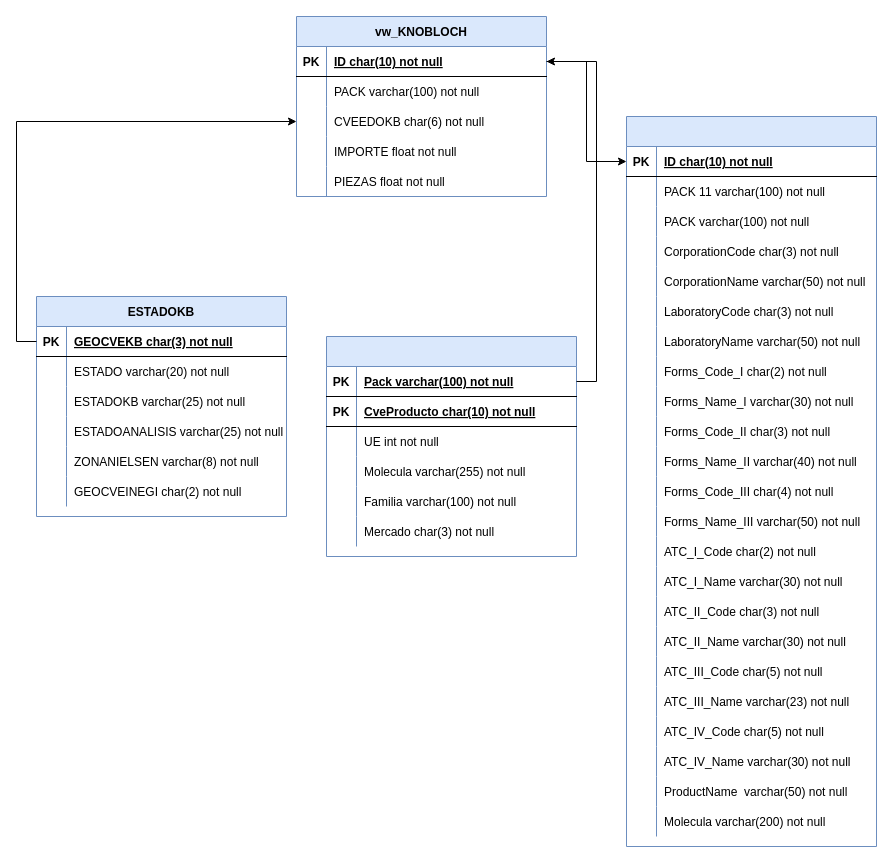
Image size: 893x863. Some labels were removed from this diagram. Each missing label, with the box of its shape:
CATALOGO_PACK: (626, 116, 876, 846)
CRUCESKNOBLOCH: (326, 336, 576, 556)
